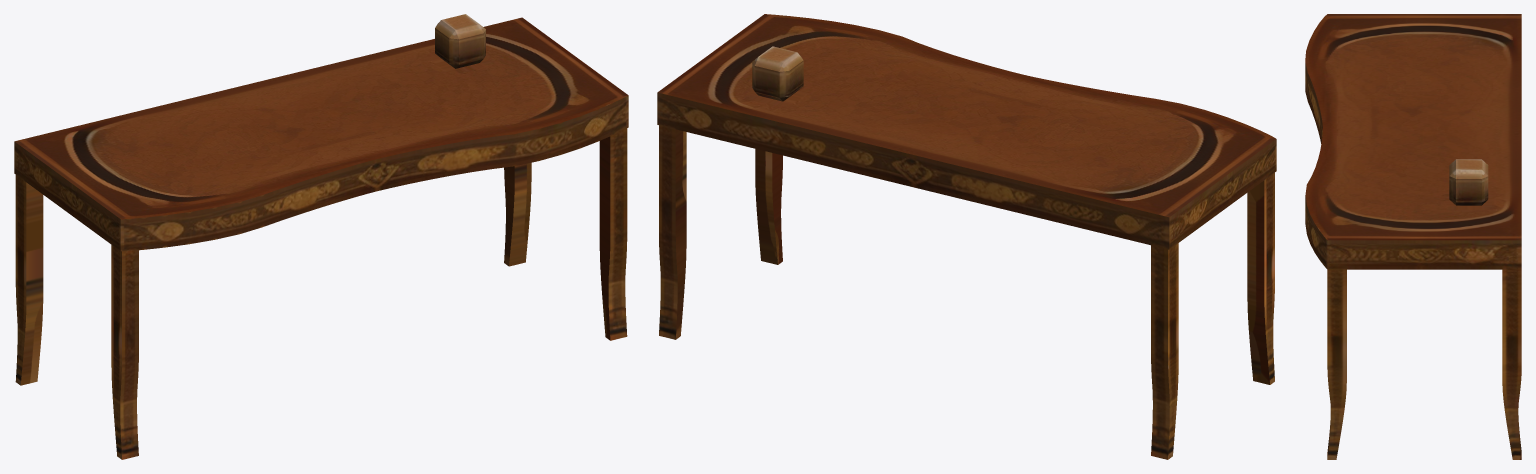
The model's file is edited_mesh.glb.
The picture shows the model from 3 angles, left to right: view 1: azimuth 30°, elevation 25°; view 2: azimuth 150°, elevation 25°; view 3: azimuth 270°, elevation 25°; orthographic projection. The views are drawn at different scales.
Parts seen in each view (by area): view 1: solid_001_wire; view 2: solid_001_wire; view 3: solid_001_wire.
Part boxes in pixels (left/top/right/bottom): solid_001_wire: left=14, top=14, right=628, bottom=459; solid_001_wire: left=657, top=14, right=1276, bottom=459; solid_001_wire: left=1305, top=14, right=1521, bottom=459.
Bounding box in the file's own units: 1.95 × 1.03 × 0.7881.
1 material, 1 textured.
